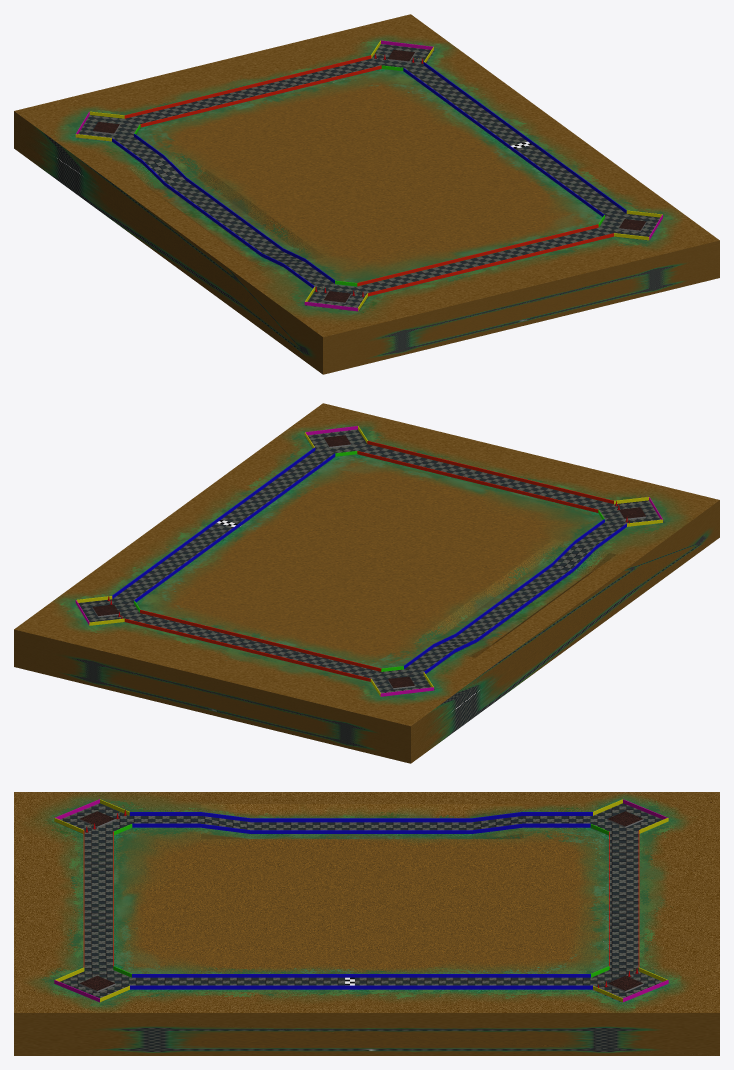
The model's file is cource_B.fbx.
3 views of the same model, one above another, from view 1: azimuth 30°, elevation 25°; view 2: azimuth 150°, elevation 25°; view 3: azimuth 270°, elevation 25° (orthographic). The views are drawn at different scales.
Parts seen in each view (by area): view 1: earth, wall, tree_base; view 2: earth, wall, tree_base; view 3: earth, wall, tree_base.
Boxes of the visible parts, left/top/right/bottom form: earth: left=14, top=14, right=719, bottom=374; wall: left=75, top=40, right=662, bottom=311; tree_base: left=92, top=49, right=646, bottom=303; earth: left=14, top=403, right=719, bottom=763; wall: left=75, top=426, right=662, bottom=696; tree_base: left=92, top=435, right=646, bottom=689; earth: left=14, top=792, right=719, bottom=1055; wall: left=54, top=799, right=668, bottom=1002; tree_base: left=79, top=811, right=643, bottom=992.
Bounding box in the file's own units: 16.01 × 1.64 × 21.6.
